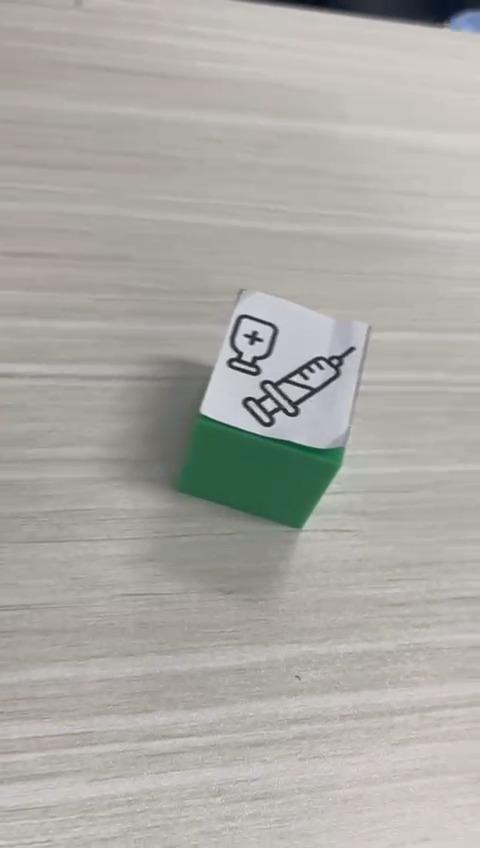antiseptic cream: (174, 286, 372, 529)
